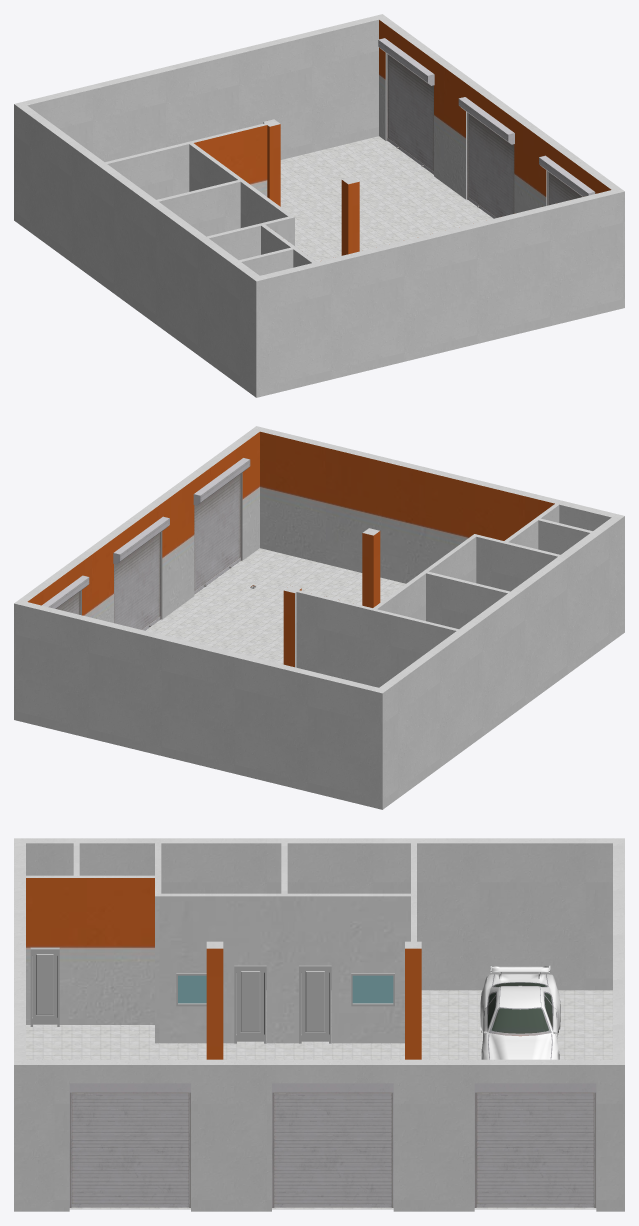
Rendered from vroom.glb.
3 views of the same model, one above another, from view 1: azimuth 30°, elevation 25°; view 2: azimuth 150°, elevation 25°; view 3: azimuth 270°, elevation 25° (orthographic). The views are drawn at different scales.
Parts seen in each view (by area): view 1: GEO_Office_Walls, Floor, rollershutter_window_02 .003, rollershutter_window_02 .002, rollershutter_window_02 .001; view 2: GEO_Office_Walls, Floor, rollershutter_window_02 .001, rollershutter_window_02 .002, rollershutter_window_02 .003; view 3: GEO_Office_Walls, Floor, rollershutter_window_02 .003, rollershutter_window_02 .001, rollershutter_window_02 .002, Tires, RowHomeB_WoodBeamWhite.001, RowHomeB_WoodBeamWhite.002, GEO_Windows, RowHomeB_WoodBeamWhite.003.
Boxes of the visible parts, bbox=[...] form: GEO_Office_Walls: bbox=[14, 14, 624, 397]; Floor: bbox=[280, 136, 493, 261]; rollershutter_window_02 .003: bbox=[378, 38, 434, 174]; rollershutter_window_02 .002: bbox=[458, 97, 514, 218]; rollershutter_window_02 .001: bbox=[539, 155, 595, 205]; GEO_Office_Walls: bbox=[14, 426, 624, 809]; Floor: bbox=[145, 548, 405, 664]; rollershutter_window_02 .001: bbox=[193, 458, 250, 594]; rollershutter_window_02 .002: bbox=[113, 516, 169, 630]; rollershutter_window_02 .003: bbox=[42, 575, 89, 614]; GEO_Office_Walls: bbox=[14, 838, 624, 1211]; Floor: bbox=[26, 990, 612, 1209]; rollershutter_window_02 .003: bbox=[474, 1083, 596, 1207]; rollershutter_window_02 .001: bbox=[69, 1083, 190, 1207]; rollershutter_window_02 .002: bbox=[272, 1083, 393, 1207]; Tires: bbox=[480, 965, 560, 1059]; RowHomeB_WoodBeamWhite.001: bbox=[299, 965, 331, 1043]; RowHomeB_WoodBeamWhite.002: bbox=[234, 965, 266, 1043]; GEO_Windows: bbox=[176, 973, 394, 1006]; RowHomeB_WoodBeamWhite.003: bbox=[30, 947, 59, 1026].
Size of the model in its own units: 0.2235 by 0.0677 by 0.2546.
9 materials, 6 textured.
